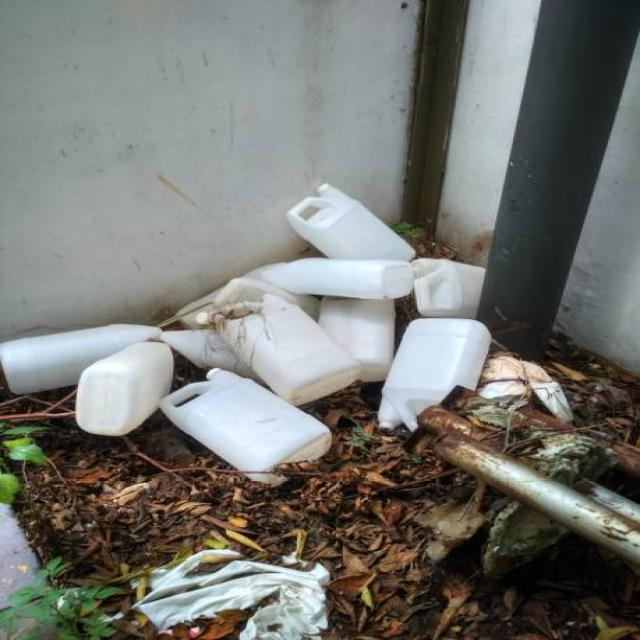plastic: (21, 183, 503, 504)
